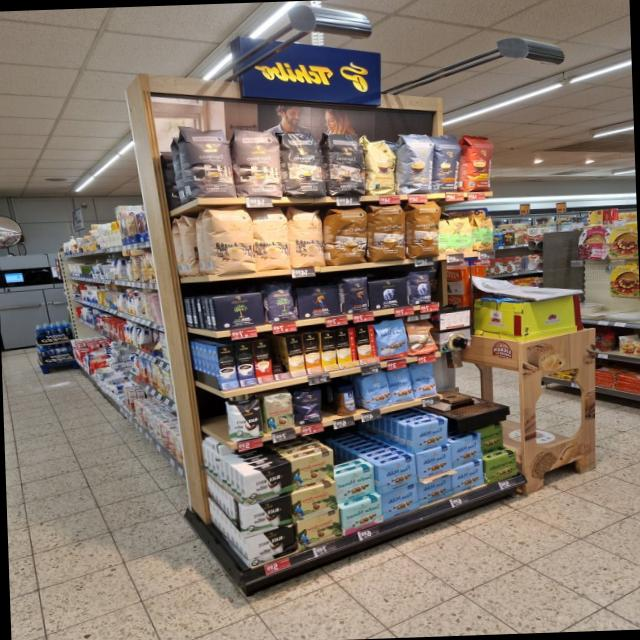AB Bohne: (408, 269, 434, 307)
AB Gemahlen: (367, 275, 408, 312)
Athiopien Bohne: (472, 214, 497, 251)
Athiopien Gemahlen: (449, 216, 473, 254)
BM Bohne: (261, 279, 299, 326)
BM Gemahlen: (211, 290, 266, 332)
BW Bohne: (225, 398, 266, 444)
BW Gemahlen: (239, 492, 292, 539), (245, 523, 297, 570), (243, 459, 292, 508)
Barista CB: (364, 136, 396, 196)
Barista CC: (396, 134, 435, 196)
Barista Espresso: (430, 134, 460, 192)
Barista Kolumbien: (460, 135, 494, 192)
C Fino Bohne: (293, 387, 326, 429)
CC Mild: (203, 206, 254, 274), (253, 204, 289, 271), (288, 204, 324, 268)
CC Vollmundig: (405, 318, 439, 356)
CC Vollmundig 36 Pads: (326, 203, 369, 264), (368, 203, 406, 262), (406, 202, 441, 258)
Colombia BB Bohne: (261, 390, 297, 436)
Colombia BB Gemahlen: (295, 506, 342, 552), (291, 480, 338, 523), (290, 448, 332, 490)
Espresso Aromatisch: (178, 127, 233, 199), (232, 125, 280, 198)
Espresso Kraftig: (280, 125, 324, 196), (326, 131, 362, 194)
FM 36 Pads: (374, 317, 409, 362)
FM Bohne: (360, 370, 394, 411), (386, 366, 416, 405), (410, 361, 439, 399)
FM Gemahlen: (377, 453, 418, 495), (414, 443, 453, 482), (381, 482, 419, 522), (449, 459, 486, 496), (416, 472, 454, 508), (412, 418, 448, 453), (450, 432, 483, 468)
Herzhatfe Mundig: (484, 450, 518, 486)
LG Bohne: (341, 275, 369, 316)
LG Gemahlen: (295, 282, 341, 321)
SM Gemahlen: (341, 495, 384, 537), (333, 464, 377, 505)
Simo CCMild: (335, 327, 357, 368)
Simo CCMild bigpack: (320, 331, 336, 371)
Simo CCVollmundig: (355, 323, 377, 365)
Simo CCVollmundig bigpack: (302, 332, 322, 375)
Simo Decaff: (285, 334, 306, 377)
Simo Es Brazil: (252, 338, 273, 383)
Simo Es Kraft: (234, 341, 256, 386)
Simo Es Vanilla: (216, 344, 238, 390)
